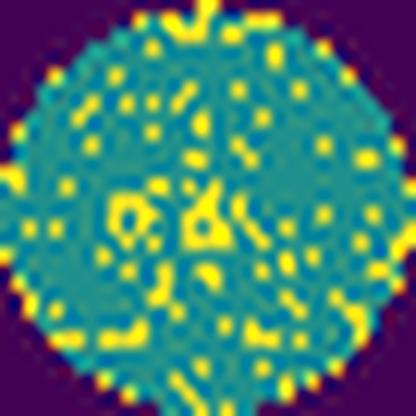Center: (105, 176, 242, 256)
